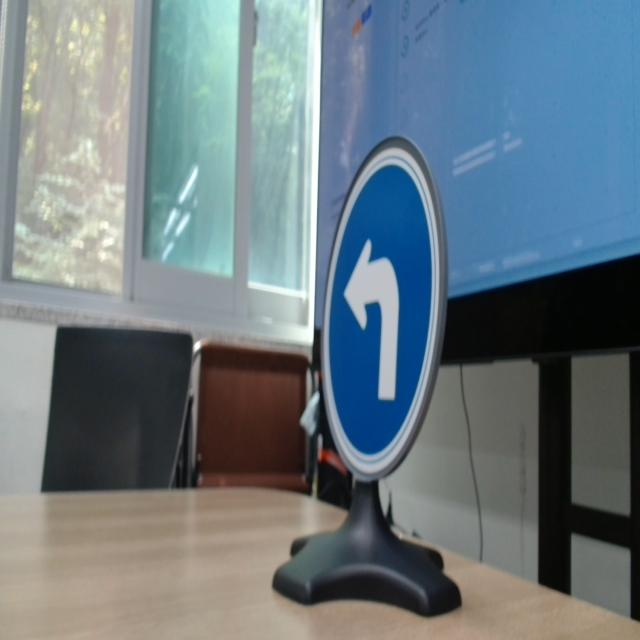left_direction: (317, 137, 453, 490)
